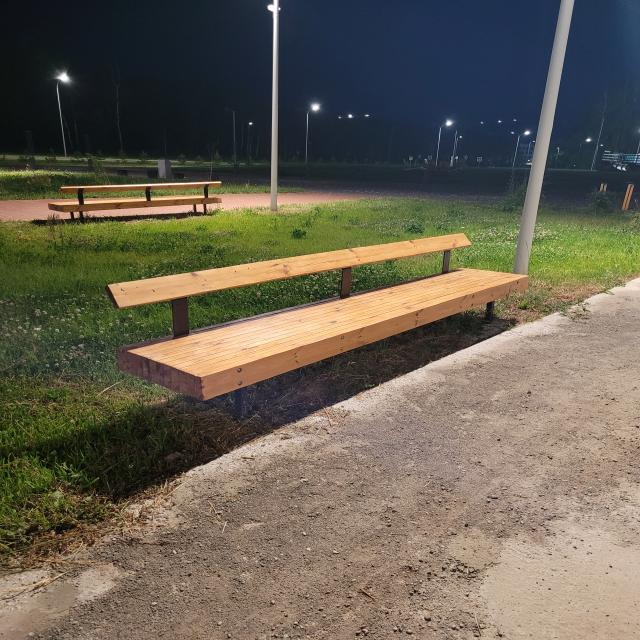Bench: (104, 233, 529, 421)
